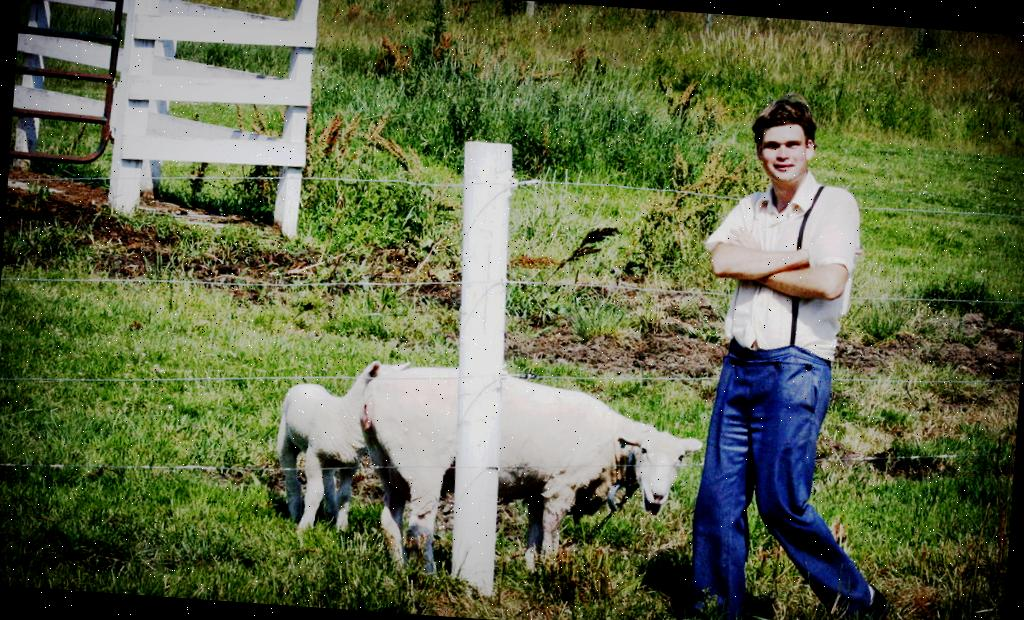Sheep: (348, 360, 707, 600), (272, 353, 410, 542)
